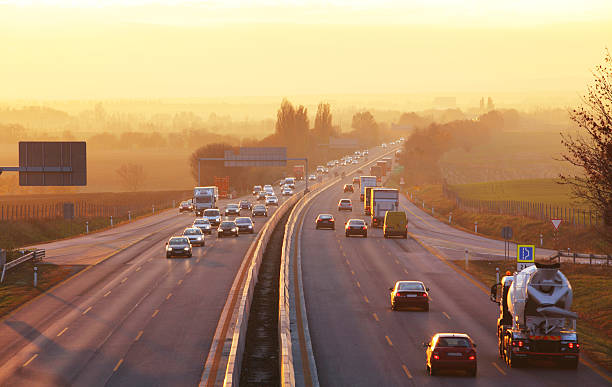car: (426, 334, 478, 377), (390, 281, 429, 311), (165, 236, 192, 257), (345, 219, 367, 238), (184, 228, 204, 245), (315, 214, 335, 231), (235, 217, 254, 233), (193, 219, 212, 234), (204, 209, 221, 225), (218, 221, 236, 236), (252, 204, 267, 217), (226, 203, 240, 216), (338, 199, 352, 211), (178, 201, 194, 211), (266, 195, 278, 206), (252, 186, 263, 195), (344, 184, 354, 193), (282, 188, 292, 196)
truck: (500, 270, 579, 368), (373, 188, 397, 224), (194, 188, 216, 213), (360, 176, 377, 201), (293, 166, 305, 183), (371, 166, 382, 184), (377, 161, 388, 177)
